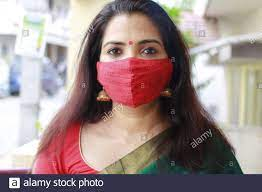mask: (85, 54, 175, 110)
social distancing: (56, 1, 251, 155)
